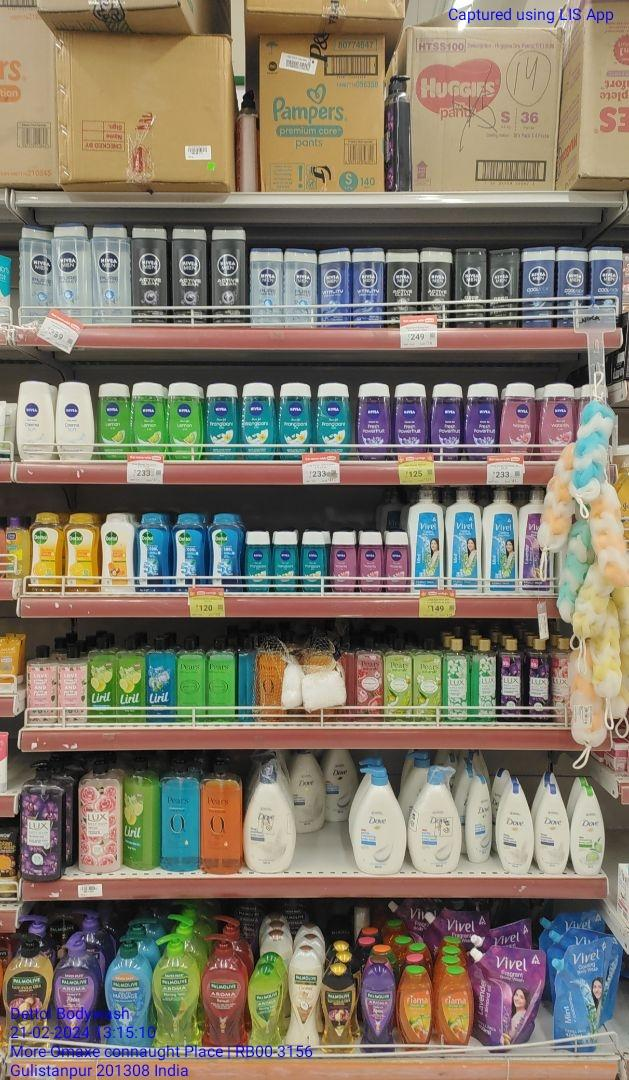Dettol_Bodywash_Cool: (206, 511, 243, 593), (135, 511, 171, 591), (172, 513, 207, 586)
Dettol_Bodywash_Refresh: (63, 512, 100, 592), (29, 512, 64, 592)
Dettol_Nourish_Body_Wash_250ML: (99, 511, 135, 594)
Dove_Deep_Moisture_Body_Wash_250ML: (534, 782, 570, 876), (496, 783, 533, 873)
Dove_Refreshing_Body_Wash_250ML: (571, 782, 607, 876)
Fiama_Shower_Gel_Peach_and_Avocado_250ML: (435, 966, 473, 1051), (397, 966, 434, 1050)
Liril_Cooling_Mint_Body_Wash_250ML: (146, 636, 176, 723)
Liril_Lime_and_Tea_Tree_Oil_Body_Wash_250ML: (116, 636, 147, 721), (87, 636, 116, 724)
Lux_Black_Orchid_Scent_and_Juniper_Oil_Body_Wash_245ML: (524, 638, 550, 722), (498, 638, 524, 722)
Lux_Body_Wash_Skin_Detox_Freesia_Scent_and_Alove_Vera_245ML: (469, 637, 497, 722), (443, 637, 470, 722)
Nivea_Creme_Soft_Body_Wash_250ML: (55, 380, 94, 463), (16, 380, 55, 460)
Nivea_Shower_Gel_Frangipani_and_Oil_250ML: (239, 381, 275, 461), (204, 381, 239, 461), (315, 381, 352, 453), (277, 383, 313, 453)
Nivea_Shower_Gel_Fresh_Powerfruit_250ML: (356, 382, 393, 461), (393, 381, 430, 452), (429, 381, 464, 453), (464, 382, 499, 453)
Nivea_Shower_Gel_Lemon_and_Oil_250ML: (166, 381, 202, 461), (98, 381, 131, 460), (131, 380, 166, 453)
Nivea_Shower_Gel_Waterlily_and_Oil_250ML: (500, 381, 538, 454), (538, 381, 575, 447)
Palmolive_Aroma_Morning_Tonic_Shower_Gel_250ML: (244, 963, 285, 1046)
Palmolive_Aroma_Relax_250ML: (357, 963, 395, 1054)
Palmolive_Coconut_Joy_Exfoliating_Body_Wash_250ML: (287, 945, 320, 1043)
Palmolive_Luminous_Oils_Invigorating_Macadamia_Oil_With_Peony_250ML: (320, 963, 356, 1055)
Pears_Pure_Glycerin_and_Lemon_Flower_Extracts_Body_Wash_250ML: (204, 634, 236, 723), (175, 634, 205, 723)
